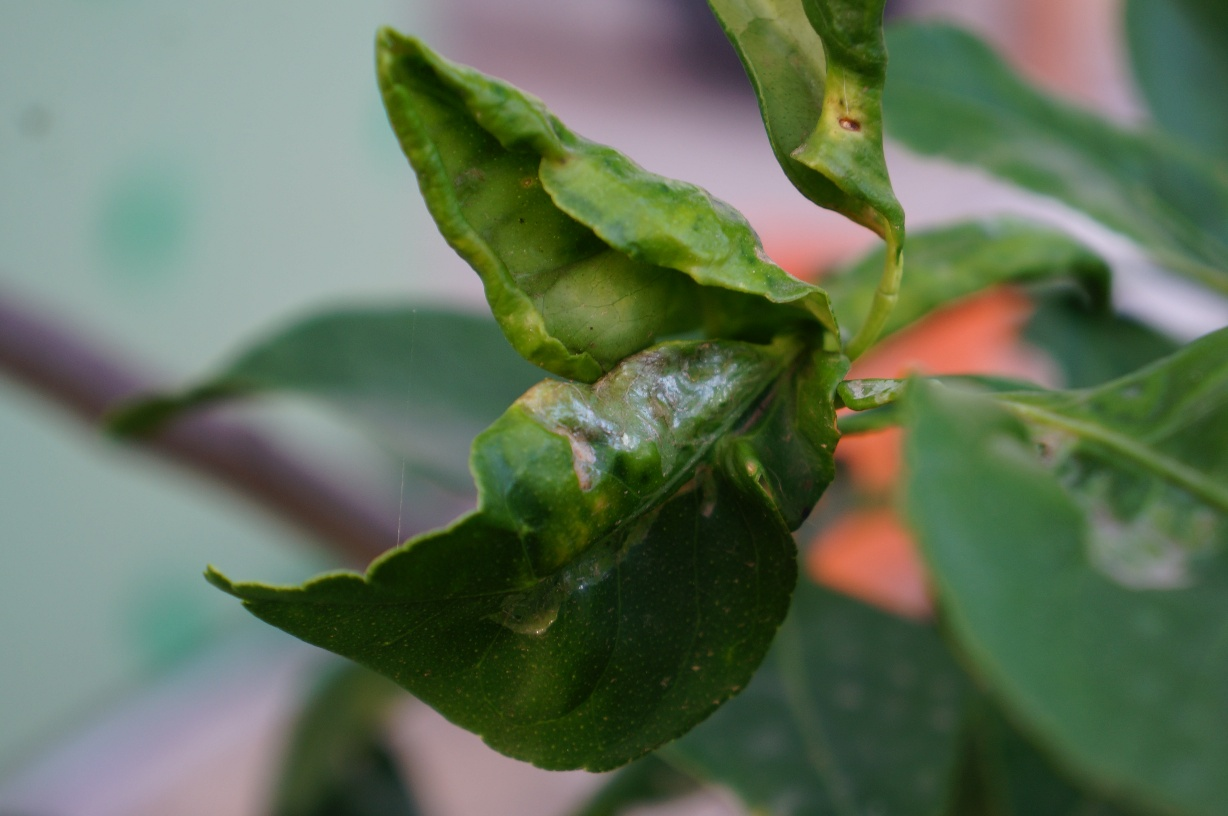curly: (361, 18, 852, 398)
damage: (517, 346, 749, 483)
